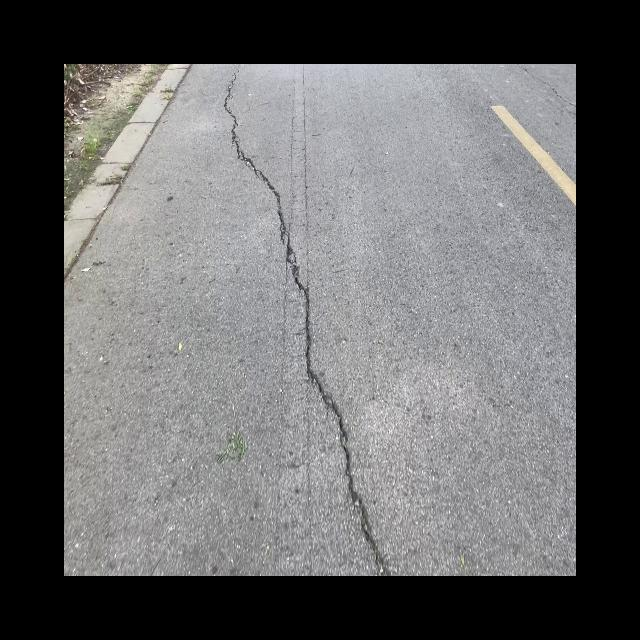retak_memanjang: (208, 71, 396, 576)
